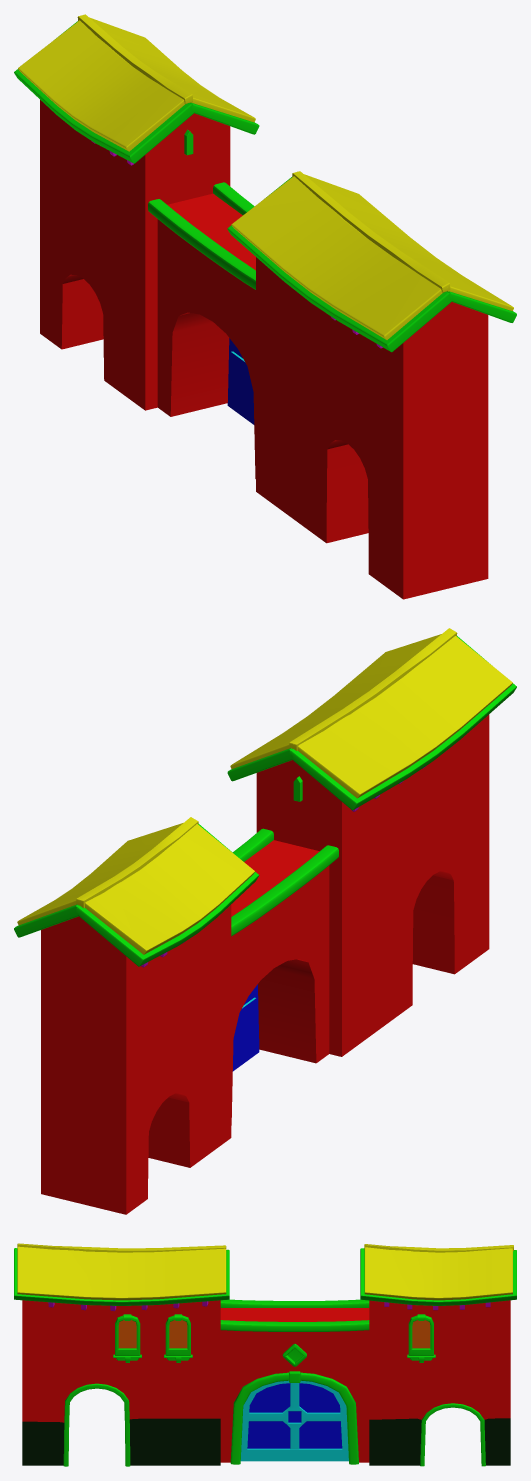
The model's file is gate Unity.fbx.
3 renders of one model, top to bottom at view 1: azimuth 30°, elevation 25°; view 2: azimuth 150°, elevation 25°; view 3: azimuth 270°, elevation 25°, orthographic. The views are drawn at different scales.
Visible parts, largest first — view 1: gateUnity; view 2: gateUnity; view 3: gateUnity.
Part boxes in pixels (<box>): gateUnity: <box>14,14,516,599</box>; gateUnity: <box>14,628,516,1214</box>; gateUnity: <box>14,1243,516,1466</box>.
Bounding box in the file's own units: 6.1 × 13.88 × 30.43.
